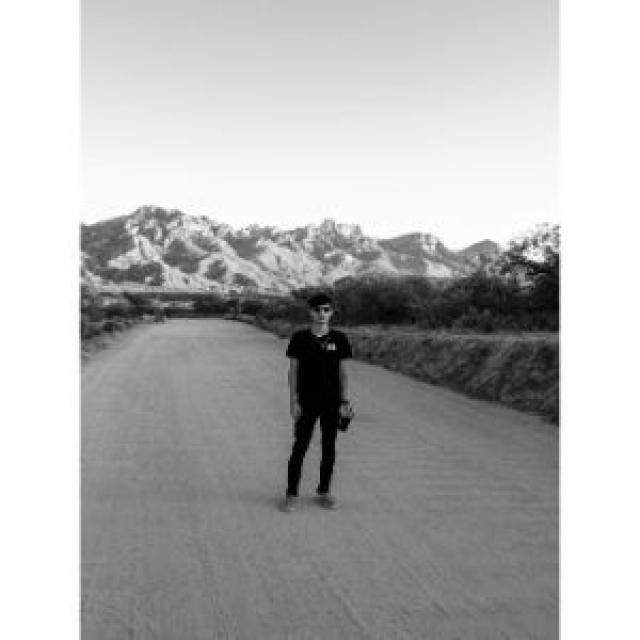nonfall: (275, 289, 366, 524)
